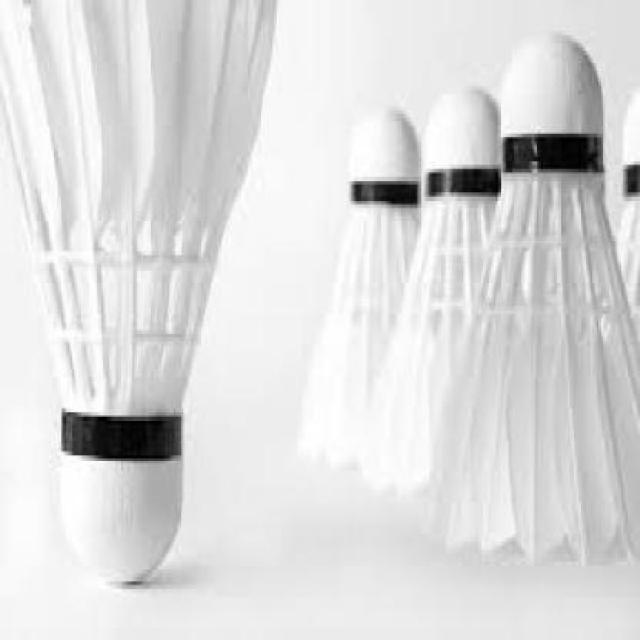Shuttlecock: (440, 31, 640, 569)
